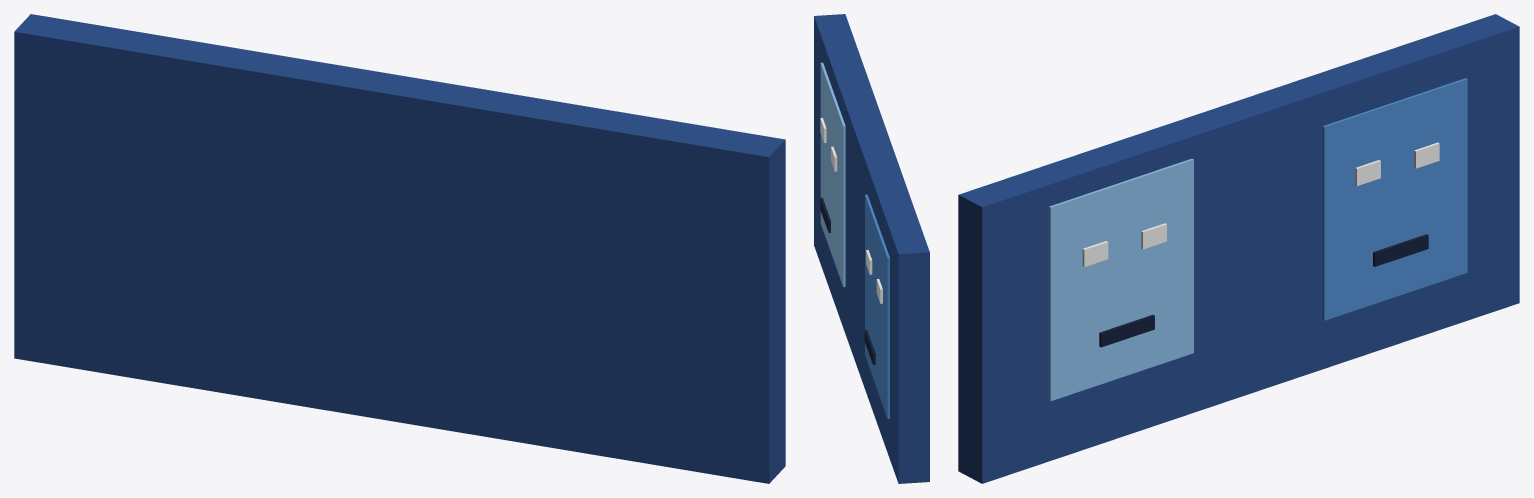
File: sn_bluefaces.glb
3 views of the same model, side by side, from view 1: azimuth 30°, elevation 25°; view 2: azimuth 150°, elevation 25°; view 3: azimuth 270°, elevation 25° (orthographic). The views are drawn at different scales.
Visible parts, largest first — view 1: sn_bluefaces_lod0; view 2: sn_bluefaces_lod0; view 3: sn_bluefaces_lod0.
Boxes of the visible parts, box(x1,y1,x2,y2) form: sn_bluefaces_lod0: box(14, 14, 785, 483); sn_bluefaces_lod0: box(814, 14, 929, 483); sn_bluefaces_lod0: box(958, 14, 1519, 483).
Size of what is drawn, in the model's own units: 6 by 4 by 7.35.
